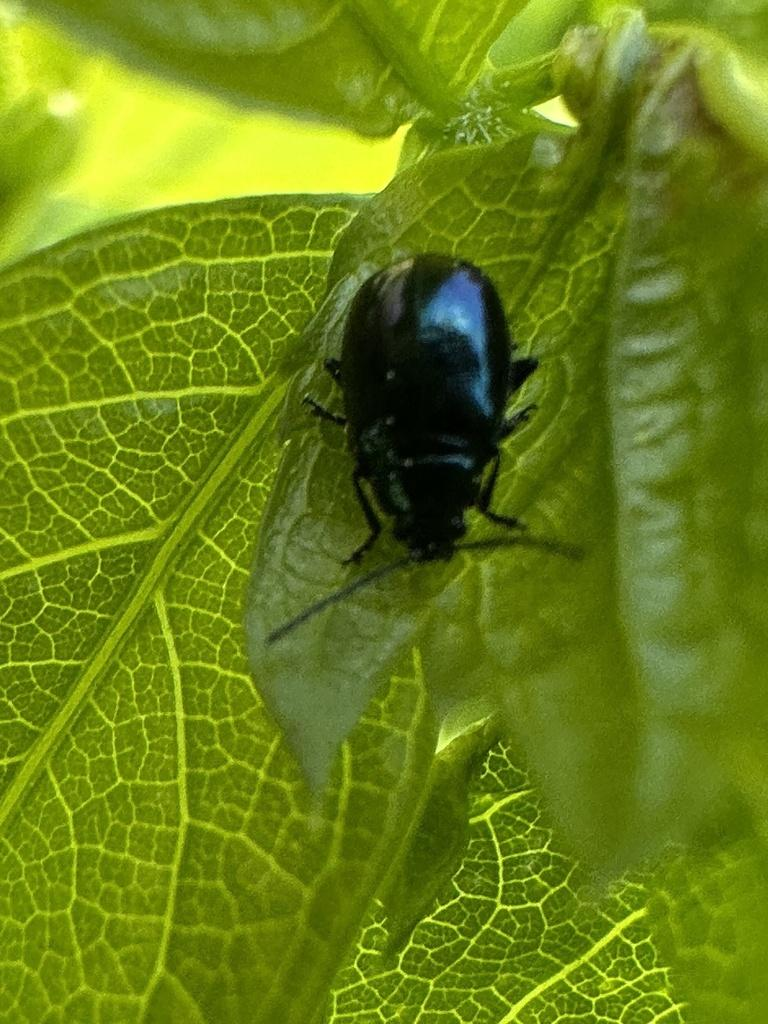flea_beetle: (245, 194, 591, 655)
